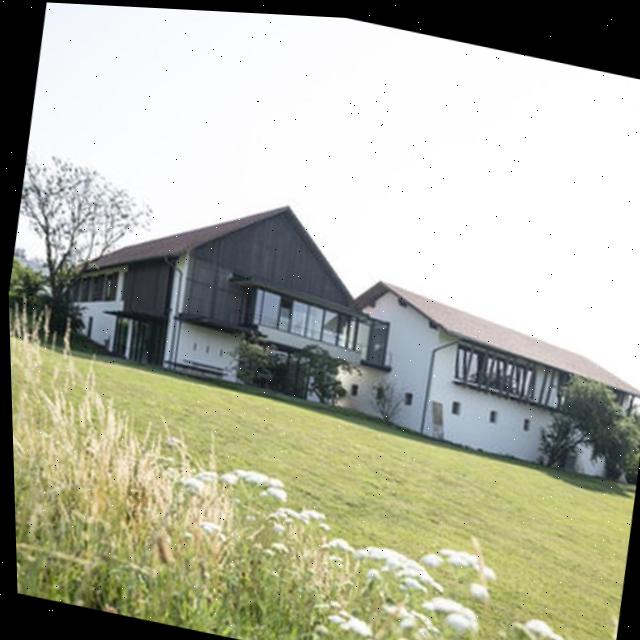building: (51, 153, 376, 417), (339, 276, 640, 490)
